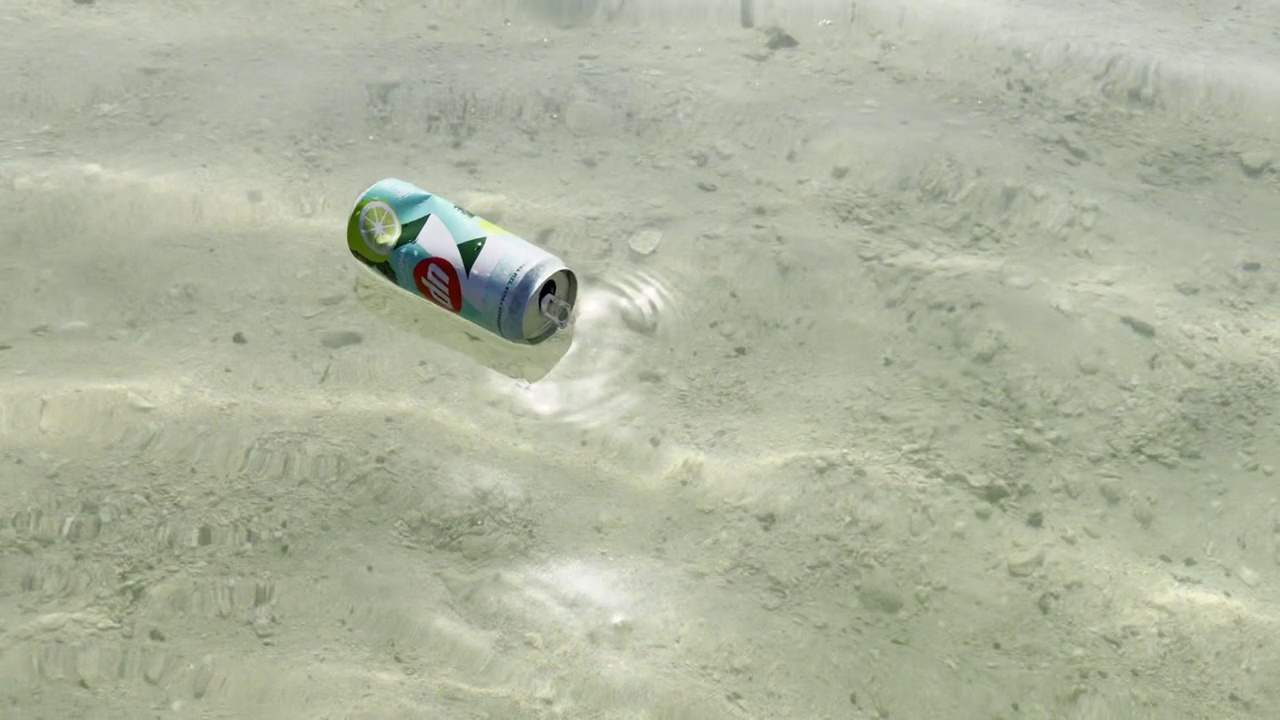debris: (340, 166, 585, 362)
